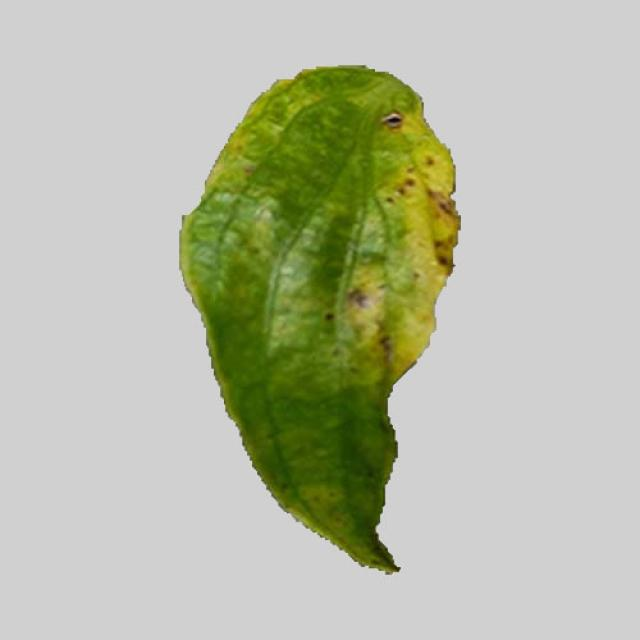yellow-mottle-virus: (162, 70, 464, 576)
